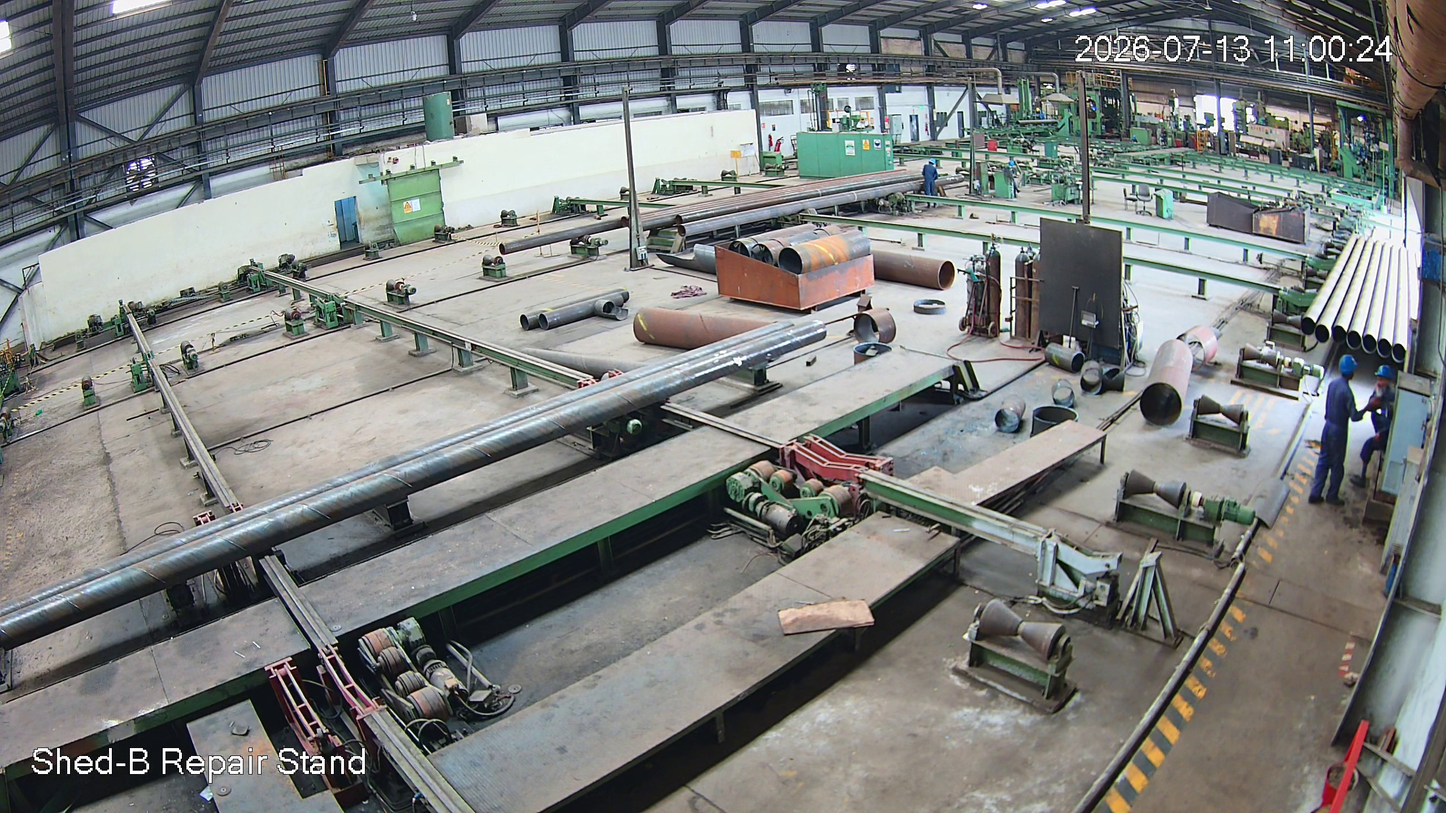Helmet: (1336, 352, 1365, 385)
Person: (1314, 353, 1358, 514)
